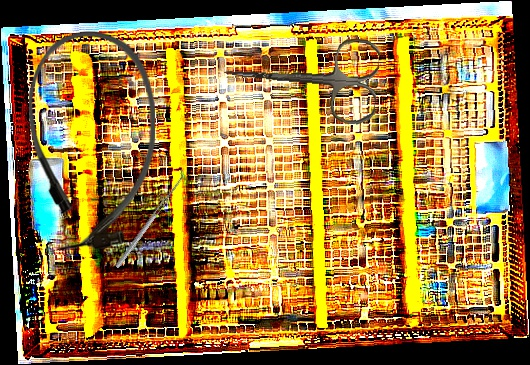Cannula: (29, 31, 155, 250)
Iris Scissors: (220, 27, 381, 127)
Spatula Surgical: (111, 168, 188, 269)
